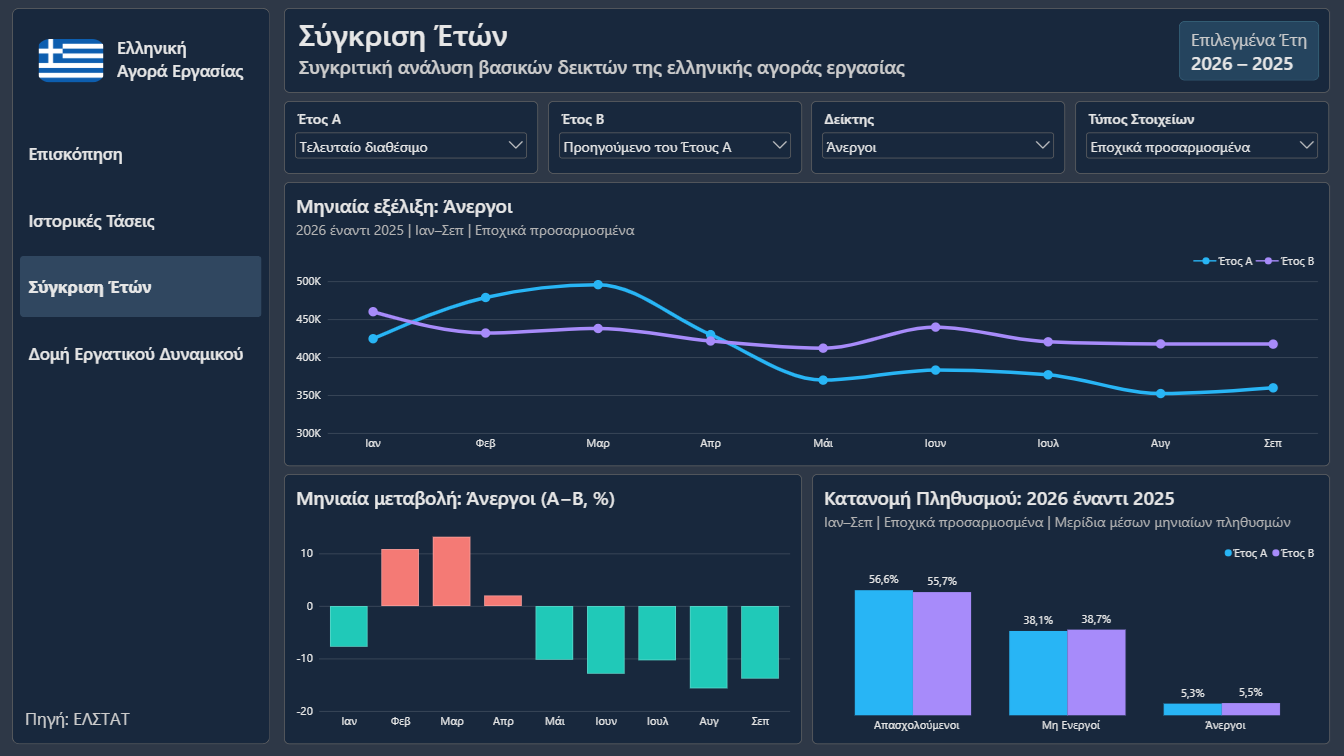

The page's visual inventory and layout, read from the dashboard file:
{"tool":"powerbi","page":{"name":"Σύγκριση Έτών","canvas":[1920,1080],"ordinal":2},"visuals":[{"type":"shape","box":[16.7,11.7,368.3,1051.7],"z":0},{"type":"textbox","box":[35.7,1010,325.7,40],"z":1000},{"type":"image","box":[50.7,55.7,100,61.7],"z":2000},{"type":"textbox","box":[166.4,50.7,212.9,82.9],"z":3000},{"type":"pageNavigator","box":[28.6,175.7,345,372],"z":4000},{"type":"textbox","box":[405.7,11.4,1494.3,121],"z":5000},{"type":"slicer","title":"Έτος Α","fields":{"Values":["Επιλογή Έτους Α.Ετικέτα"]},"box":[405.5,144.2,363.1,103.7],"z":6000},{"type":"slicer","fields":{"Values":["Επιλογή Έτους Β.Ετικέτα"]},"box":[782.4,143.9,363,104],"z":7000},{"type":"slicer","fields":{"Values":["Δείκτες Σύγκρισης.Δείκτης"]},"box":[1159.2,143.9,363,104],"z":8000},{"type":"slicer","fields":{"Values":["Πίνακας 1Α.Τύπος Στοιχείων"]},"box":[1536,143.9,363,104],"z":9000},{"type":"lineChart","fields":{"Category":["Μήνες Σύγκρισης.Ετικέτα"],"Y":["Άξονας Έτους Σύγκρισης.Σύγκριση Μηνιαία Τιμή Έτος Α","Άξονας Έτους Σύγκρισης.Σύγκριση Μηνιαία Τιμή Έτος Β"]},"box":[405.7,259.7,1494.3,405.7],"z":10000},{"type":"clusteredColumnChart","fields":{"Category":["Μήνες Σύγκρισης.Ετικέτα"],"Y":["Άξονας Έτους Σύγκρισης.Σύγκριση Μηνιαία Μεταβολή"]},"box":[405.7,677.1,740,385.7],"z":11000},{"type":"clusteredColumnChart","fields":{"Category":["Κατηγορίες Donut.Κατηγορία"],"Y":["Άξονας Έτους Σύγκρισης.Σύγκριση Μερίδιο Έτους Α","Άξονας Έτους Σύγκρισης.Σύγκριση Μερίδιο Έτους Β"]},"box":[1160,677.1,740,385.7],"z":12000},{"type":"cardVisual","fields":{"Data":["Άξονας Έτους Σύγκρισης.Σύγκριση Επιλεγμένα Έτη"]},"box":[1684.3,30,200,85.7],"z":13000}]}

Visuals, with their boxes in screenshot pixels (x1, y1, x2, y2), scaled from the page's 1920x1080 canvas onto the 1344x756 screenshot:
shape: [12,8,270,744]
textbox: [25,707,253,735]
image: [35,39,105,82]
textbox: [116,35,266,94]
pageNavigator: [20,123,262,383]
textbox: [284,8,1330,93]
"Έτος Α" slicer: [284,101,538,174]
slicer - Επιλογή Έτους Β.Ετικέτα: [548,101,802,174]
slicer - Δείκτες Σύγκρισης.Δείκτης: [811,101,1066,174]
slicer - Πίνακας 1Α.Τύπος Στοιχείων: [1075,101,1329,174]
lineChart - Μήνες Σύγκρισης.Ετικέτα x Άξονας Έτους Σύγκρισης.Σύγκριση Μηνιαία Τιμή Έτος Α: [284,182,1330,466]
clusteredColumnChart - Μήνες Σύγκρισης.Ετικέτα x Άξονας Έτους Σύγκρισης.Σύγκριση Μηνιαία Μεταβολή: [284,474,802,744]
clusteredColumnChart - Κατηγορίες Donut.Κατηγορία x Άξονας Έτους Σύγκρισης.Σύγκριση Μερίδιο Έτους Α: [812,474,1330,744]
cardVisual - Άξονας Έτους Σύγκρισης.Σύγκριση Επιλεγμένα Έτη: [1179,21,1319,81]
